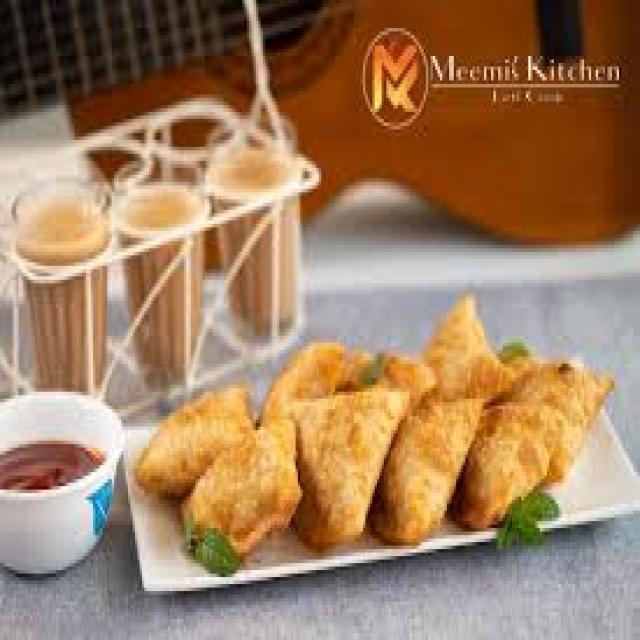SAMOSA: (291, 392, 407, 546), (186, 420, 298, 553), (370, 399, 477, 535), (137, 385, 254, 493), (505, 360, 610, 479), (454, 402, 549, 525), (421, 294, 503, 395), (265, 339, 347, 399)
